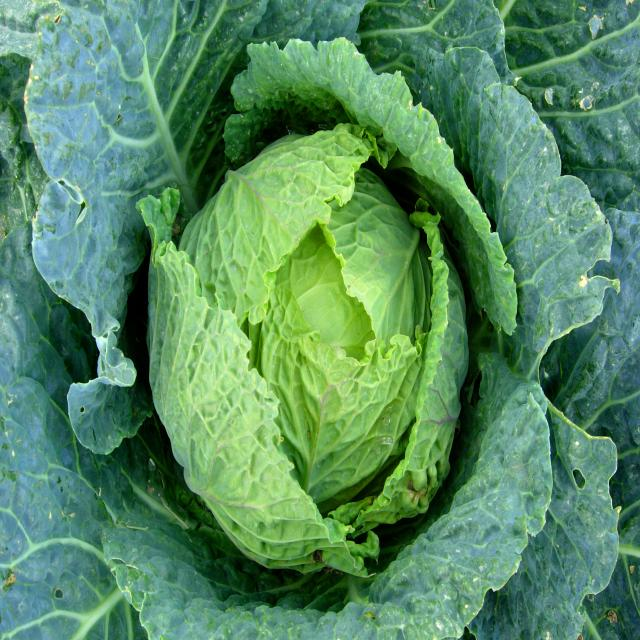cabbage: (110, 55, 554, 573)
